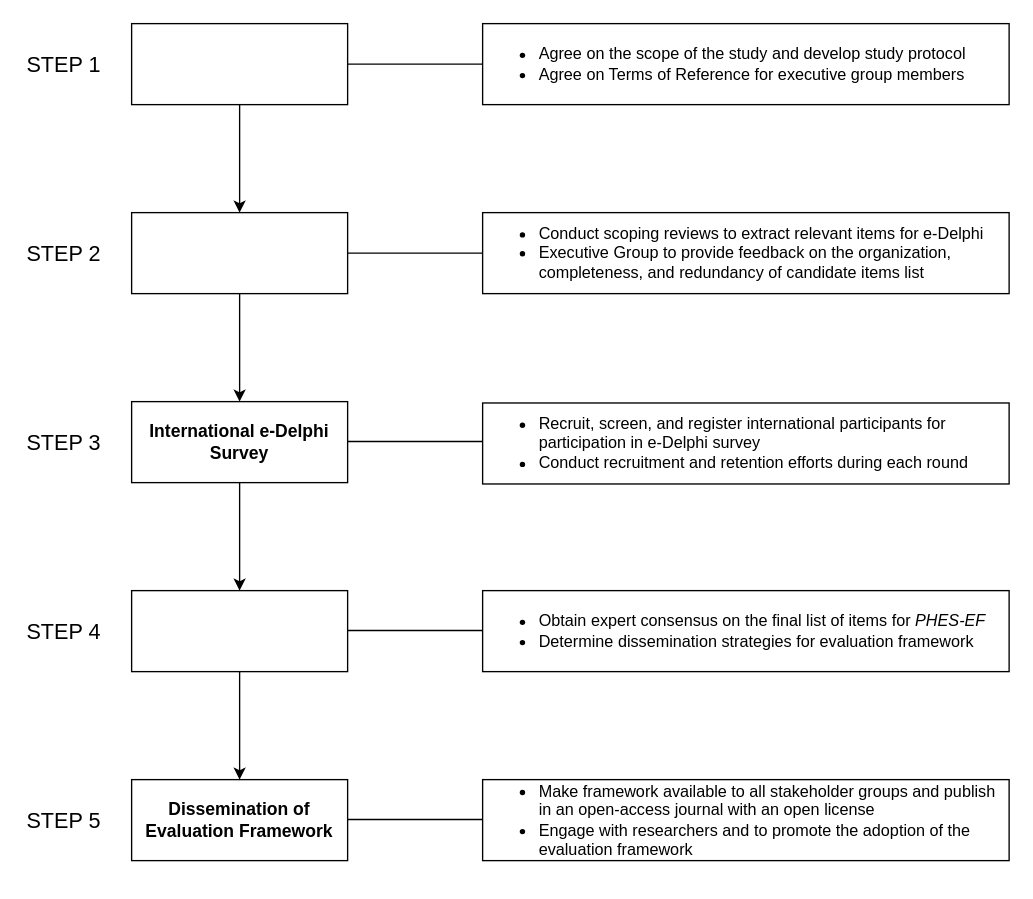
This 1033x899 diagram has some shape labels left out. Each missing label, with the centre of its shape:
"Consensus Meeting" belongs at pixel 239 630.
"Establishment of the Executive Group" belongs at pixel 239 63.
"Generation of Candidate Items" belongs at pixel 239 252.
